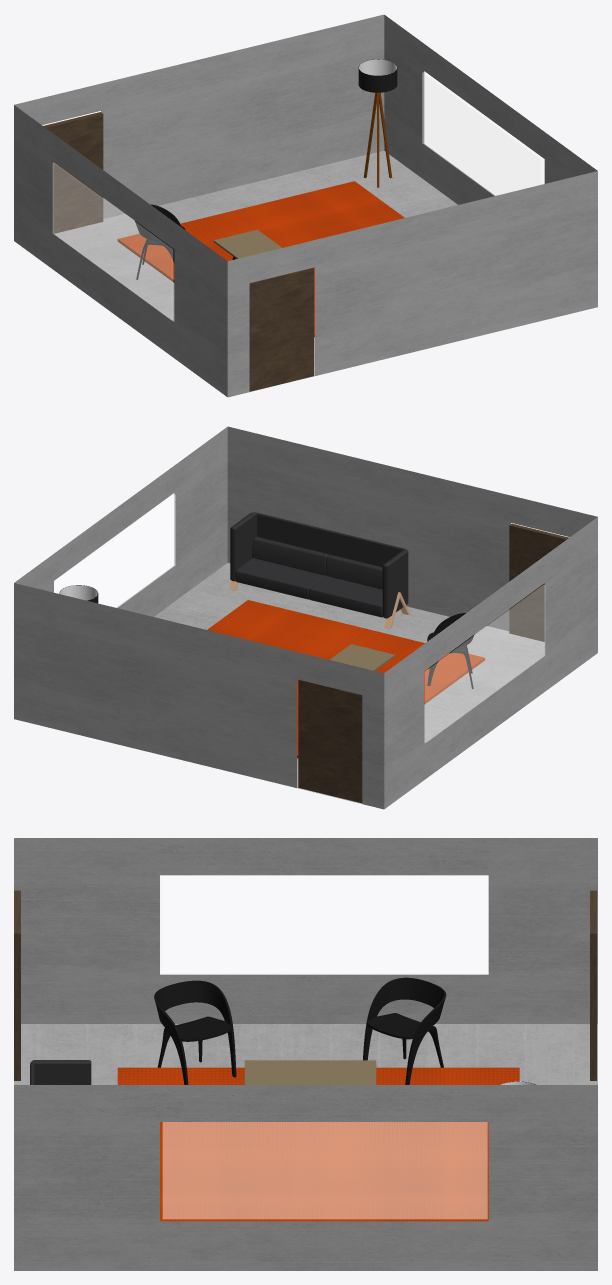
The model's file is LivingRoomVR.glb.
3 views of the same model, one above another, from view 1: azimuth 30°, elevation 25°; view 2: azimuth 150°, elevation 25°; view 3: azimuth 270°, elevation 25° (orthographic). The views are drawn at different scales.
Parts seen in each view (by area): view 1: Box - baked 1, Box 4, Box 2, Box 1, Box 3, Box - baked, L_f60252dc_6df9_4949_ad91_37d063cb7aca_C1_I4, L_7813472d_bfe1_4ef4_b1ea_30deeaa4646d_C1_I2, L_8c3212c4_1869_4df7_aa1f_2c69f12c3765_I3, L_2ebc420b_0ae8_4cd4_9ef3_754e21cdf2ad_I1; view 2: Box - baked 1, Box 2, Box 4, Box - baked, Box 1, L_05a8e400_bc47_4413_bdc0_48efdcb240bd_C1_I1, Box 3, L_c3b87929_b2d9_4a5d_ab7c_4a04ba5f8e34_C1_I6, L_64e93753_c10d_4a12_8a98_b8abde413289_C1_I2, L_8818ff24_b950_4799_88b8_612fc9c53248_C1_I4, L_e49048a3_312e_428b_ae92_2ed8cbad8930_C1_I7, L_f60252dc_6df9_4949_ad91_37d063cb7aca_C1_I4; view 3: Box - baked 1, Box 4, Box 2, Box 1, L_f60252dc_6df9_4949_ad91_37d063cb7aca_C1_I4, L_841f5350_57cc_458d_b254_5ff55c49de65_C1_I4, L_841f5350_57cc_458d_b254_5ff55c49de65_C1_I40, L_05a8e400_bc47_4413_bdc0_48efdcb240bd_C1_I1, Box 3, Box - baked, L_1f55f763_2a29_4167_be47_656e87cf0a8b_C1_I20, L_1f55f763_2a29_4167_be47_656e87cf0a8b_C1_I2.
Part boxes in pixels (x1,y1,x2,y2): Box - baked 1: (14, 14, 597, 397); Box 4: (117, 181, 404, 337); Box 2: (53, 162, 172, 320); Box 1: (422, 72, 542, 195); Box 3: (249, 267, 313, 391); Box - baked: (43, 112, 103, 233); L_f60252dc_6df9_4949_ad91_37d063cb7aca_C1_I4: (214, 229, 281, 258); L_7813472d_bfe1_4ef4_b1ea_30deeaa4646d_C1_I2: (363, 92, 392, 187); L_8c3212c4_1869_4df7_aa1f_2c69f12c3765_I3: (358, 59, 397, 92); L_2ebc420b_0ae8_4cd4_9ef3_754e21cdf2ad_I1: (359, 59, 396, 75); Box - baked 1: (14, 426, 597, 809); Box 2: (425, 585, 544, 742); Box 4: (207, 600, 484, 758); Box - baked: (298, 679, 362, 803); Box 1: (55, 494, 175, 607); L_05a8e400_bc47_4413_bdc0_48efdcb240bd_C1_I1: (230, 512, 408, 618); Box 3: (509, 523, 568, 641); L_c3b87929_b2d9_4a5d_ab7c_4a04ba5f8e34_C1_I6: (235, 558, 325, 599); L_64e93753_c10d_4a12_8a98_b8abde413289_C1_I2: (309, 576, 382, 617); L_8818ff24_b950_4799_88b8_612fc9c53248_C1_I4: (252, 536, 328, 575); L_e49048a3_312e_428b_ae92_2ed8cbad8930_C1_I7: (325, 554, 382, 589); L_f60252dc_6df9_4949_ad91_37d063cb7aca_C1_I4: (330, 644, 394, 670); Box - baked 1: (14, 838, 597, 1270); Box 4: (117, 1067, 519, 1221); Box 2: (163, 875, 487, 972); Box 1: (163, 1122, 487, 1218); L_f60252dc_6df9_4949_ad91_37d063cb7aca_C1_I4: (244, 1060, 376, 1084); L_841f5350_57cc_458d_b254_5ff55c49de65_C1_I4: (363, 977, 446, 1084); L_841f5350_57cc_458d_b254_5ff55c49de65_C1_I40: (154, 980, 236, 1084); L_05a8e400_bc47_4413_bdc0_48efdcb240bd_C1_I1: (30, 1060, 91, 1084); Box 3: (14, 890, 20, 1080); Box - baked: (590, 890, 596, 1080); L_1f55f763_2a29_4167_be47_656e87cf0a8b_C1_I20: (157, 1016, 232, 1067); L_1f55f763_2a29_4167_be47_656e87cf0a8b_C1_I2: (366, 1013, 443, 1067).
Bounding box in the file's own units: 0.8038 × 0.2813 × 0.8002.
Materials: 41 (4 with a texture image).
